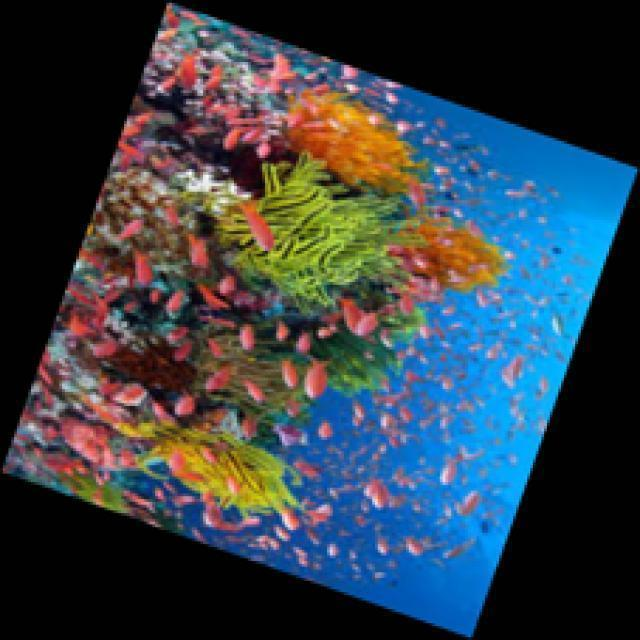Healthy Coral: (217, 155, 411, 294), (189, 321, 453, 422), (23, 315, 179, 477), (271, 68, 446, 179), (131, 420, 304, 522), (381, 202, 535, 306)
